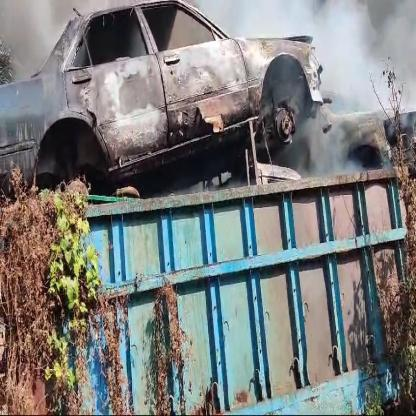Smoke: (0, 0, 416, 187)
